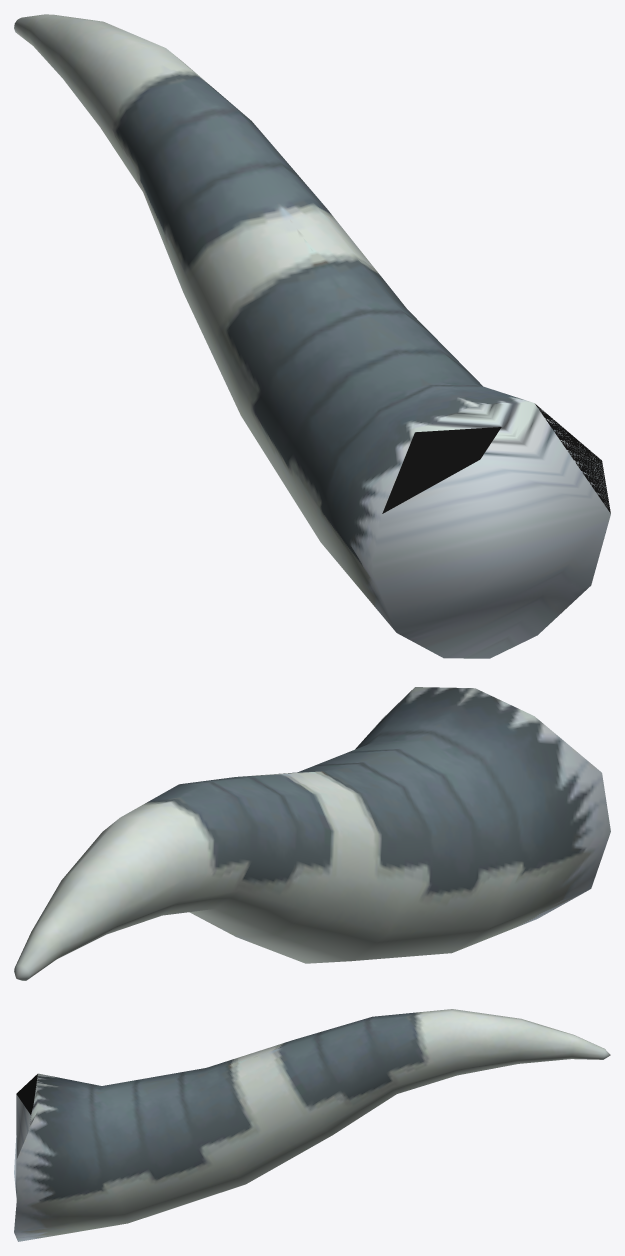
Rendered from tail-5_kimeramon.blend.obj.
The picture shows the model from 3 angles, top to bottom: view 1: azimuth 30°, elevation 25°; view 2: azimuth 150°, elevation 25°; view 3: azimuth 270°, elevation 25°; orthographic projection. The views are drawn at different scales.
Parts seen in each view (by area): view 1: tail-5_kimeramon.blend_nifid_4-matrix_Chimairamon-lib.005; view 2: tail-5_kimeramon.blend_nifid_4-matrix_Chimairamon-lib.005; view 3: tail-5_kimeramon.blend_nifid_4-matrix_Chimairamon-lib.005.
Boxes of the visible parts, box(x1,y1,x2,y2) form: tail-5_kimeramon.blend_nifid_4-matrix_Chimairamon-lib.005: box(14, 14, 610, 658); tail-5_kimeramon.blend_nifid_4-matrix_Chimairamon-lib.005: box(14, 687, 610, 980); tail-5_kimeramon.blend_nifid_4-matrix_Chimairamon-lib.005: box(14, 1009, 610, 1241).
Size of the model in its own units: 1.23 by 1.75 by 4.25.
Materials: 1 (1 with a texture image).
